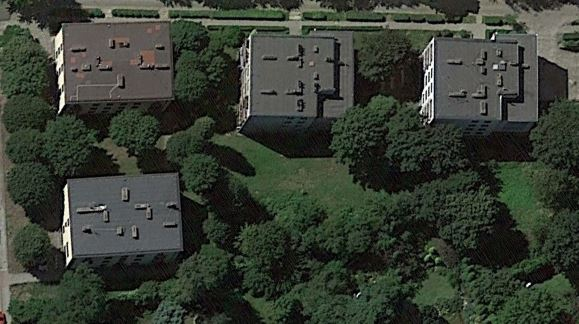block of flats: (57, 168, 185, 276), (234, 28, 357, 138), (417, 31, 540, 141), (54, 17, 174, 116)
